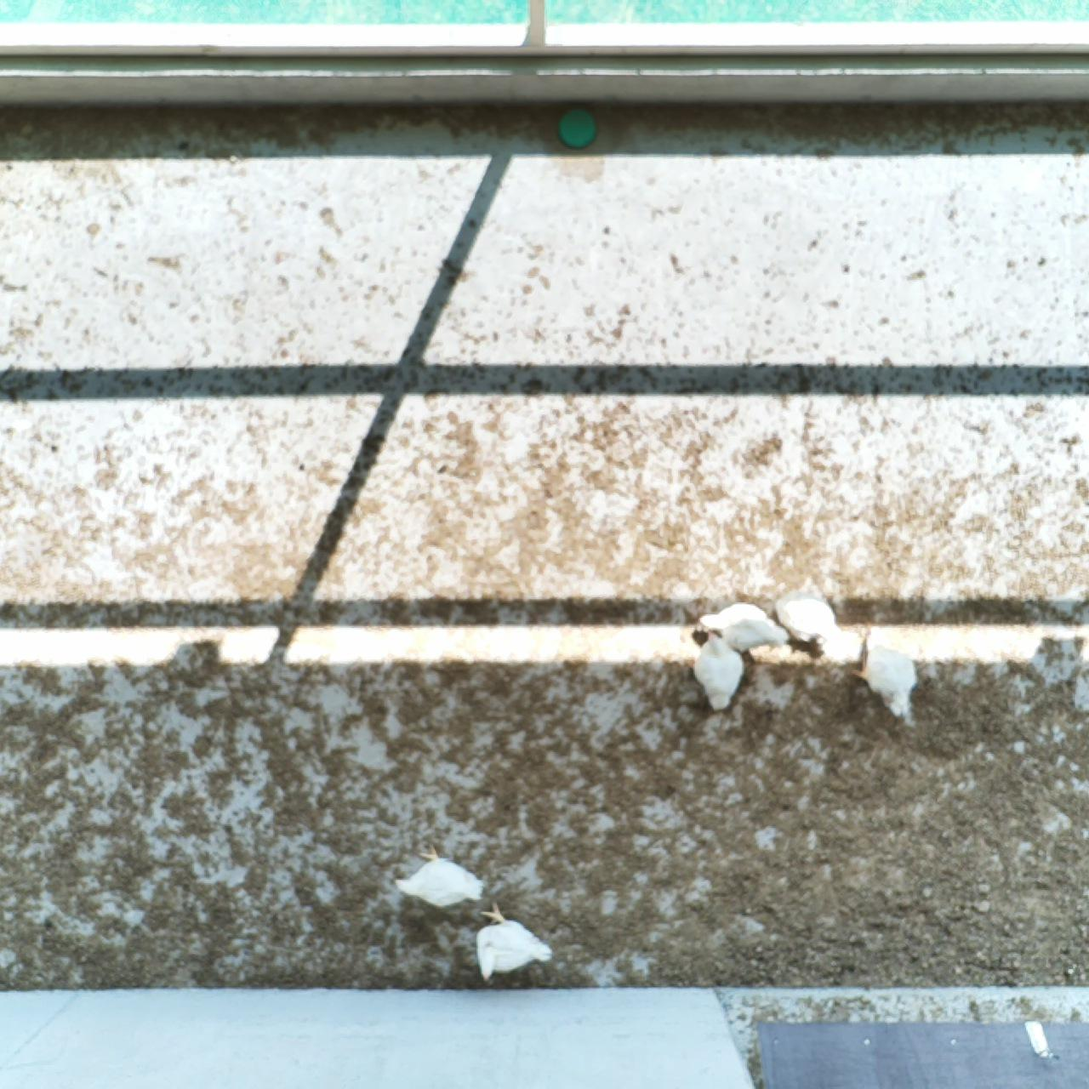chicken: (844, 623, 919, 725), (473, 899, 554, 983), (392, 841, 486, 912), (773, 573, 846, 653), (697, 597, 788, 659), (687, 626, 747, 713)
